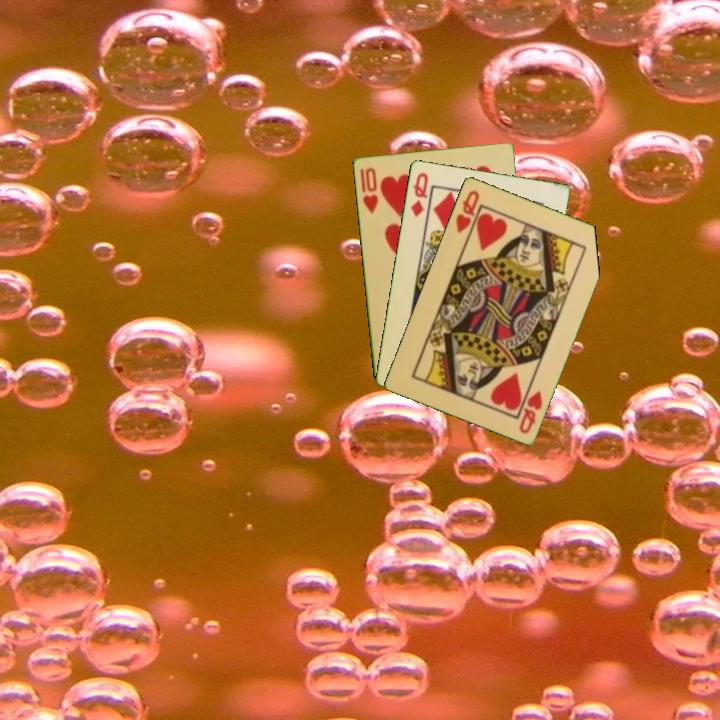10h: (359, 164, 381, 216)
Qd: (407, 169, 431, 219)
Qh: (452, 186, 482, 235), (515, 387, 545, 436)
